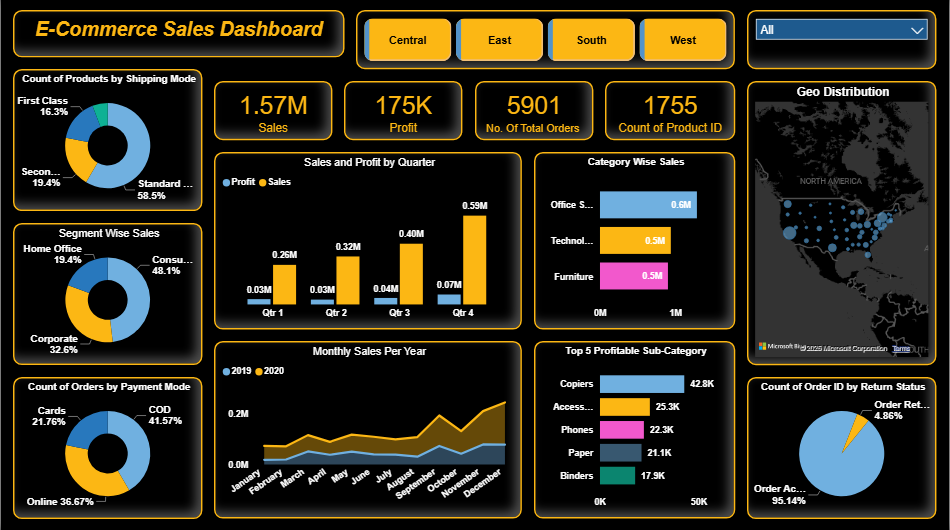

What the dashboard file says about the page in this screenshot:
{"tool":"powerbi","page":{"name":"Page 1","canvas":[1280,720],"ordinal":0},"visuals":[{"type":"clusteredBarChart","title":"Top 5 Profitable Sub-Category","fields":{"Y":["Sum(Sheet1.Profit)"],"Category":["Sheet1.Sub-Category"]},"box":[720,464,272,240],"z":0},{"type":"clusteredBarChart","title":"Category Wise Sales","fields":{"Category":["Sheet1.Category"],"Y":["Sum(Sheet1.Sales)"]},"box":[720,208,272,240],"z":1000},{"type":"donutChart","title":"Segment Wise Sales","fields":{"Y":["Sum(Sheet1.Sales)"],"Category":["Sheet1.Segment"]},"box":[16,304,256,192],"z":2000},{"type":"pieChart","title":"Count of Products by Shipping Mode","fields":{"Category":["Sheet1.Ship Mode"],"Y":["CountNonNull(Sheet1.Product ID)"]},"box":[16,96,256,192],"z":3000},{"type":"pieChart","title":"Count of Orders by Payment Mode","fields":{"Category":["Sheet1.Payment Mode"],"Y":["CountNonNull(Sheet1.Order ID)"]},"box":[16,512,256,192],"z":4000},{"type":"stackedAreaChart","title":"Monthly Sales Per Year","fields":{"Y":["Sum(Sheet1.Sales)"],"Category":["Sheet1.Order Date.Variation.Date Hierarchy.Month"],"Series":["Sheet1.Order Date.Variation.Date Hierarchy.Year"]},"box":[288,464,416,240],"z":5000},{"type":"clusteredColumnChart","title":"Sales and Profit by Quarter","fields":{"Category":["Sheet1.Order Date.Variation.Date Hierarchy.Quarter"],"Y":["Sum(Sheet1.Profit)","Sum(Sheet1.Sales)"]},"box":[288,208,416,240],"z":6000},{"type":"map","title":"Geo Distribution","fields":{"Category":["Sheet1.State"],"Size":["Sum(Sheet1.Sales)"]},"box":[1008,112,256,384],"z":7000},{"type":"advancedSlicerVisual","fields":{"Values":["Sheet1.Region"]},"box":[480,16,512,80],"z":8000},{"type":"slicer","fields":{"Values":["Sheet1.State"]},"box":[1008,16,256,80],"z":9000},{"type":"textbox","title":"bkkn","box":[16,16,448,64],"z":10000},{"type":"card","fields":{"Values":["Sum(Sheet1.Sales)"]},"box":[288,112,160,80],"z":11000},{"type":"card","fields":{"Values":["Sum(Sheet1.Profit)"]},"box":[464,112,160,80],"z":12000},{"type":"card","fields":{"Values":["CountNonNull(Sheet1.Order ID)"]},"box":[640,112,160,80],"z":13000},{"type":"card","fields":{"Values":["Count(Sheet1.Product ID)"]},"box":[816,112,176,80],"z":14000},{"type":"pieChart","fields":{"Category":["Sheet1.Return Status"],"Y":["CountNonNull(Sheet1.Order ID)"]},"box":[1008,512,256,192],"z":15000}]}

Visuals, with their boxes in screenshot pixels (x1, y1, x2, y2), scaled from the page's 1280x720 canvas onto the 950x530 screenshot:
"Top 5 Profitable Sub-Category" clusteredBarChart: select_region(534, 342, 736, 518)
"Category Wise Sales" clusteredBarChart: select_region(534, 153, 736, 330)
"Segment Wise Sales" donutChart: select_region(12, 224, 202, 365)
"Count of Products by Shipping Mode" pieChart: select_region(12, 71, 202, 212)
"Count of Orders by Payment Mode" pieChart: select_region(12, 377, 202, 518)
"Monthly Sales Per Year" stackedAreaChart: select_region(214, 342, 522, 518)
"Sales and Profit by Quarter" clusteredColumnChart: select_region(214, 153, 522, 330)
"Geo Distribution" map: select_region(748, 82, 938, 365)
advancedSlicerVisual - Sheet1.Region: select_region(356, 12, 736, 71)
slicer - Sheet1.State: select_region(748, 12, 938, 71)
"bkkn" textbox: select_region(12, 12, 344, 59)
card - Sum(Sheet1.Sales): select_region(214, 82, 332, 141)
card - Sum(Sheet1.Profit): select_region(344, 82, 463, 141)
card - CountNonNull(Sheet1.Order ID): select_region(475, 82, 594, 141)
card - Count(Sheet1.Product ID): select_region(606, 82, 736, 141)
pieChart - Sheet1.Return Status x CountNonNull(Sheet1.Order ID): select_region(748, 377, 938, 518)
